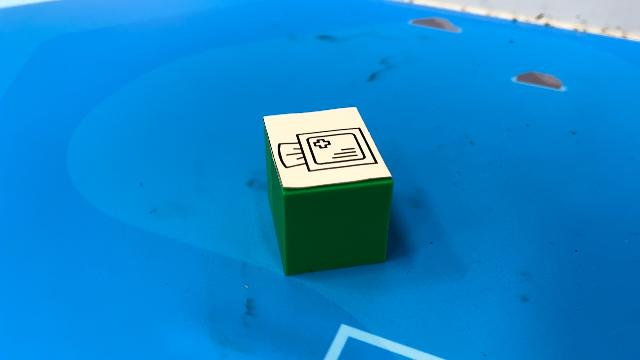napkin: (264, 107, 398, 275)
